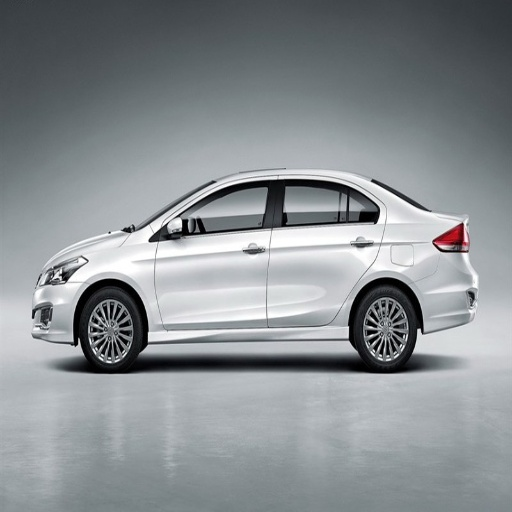back_left_door: (267, 177, 384, 326)
front_left_door: (155, 179, 277, 330)
